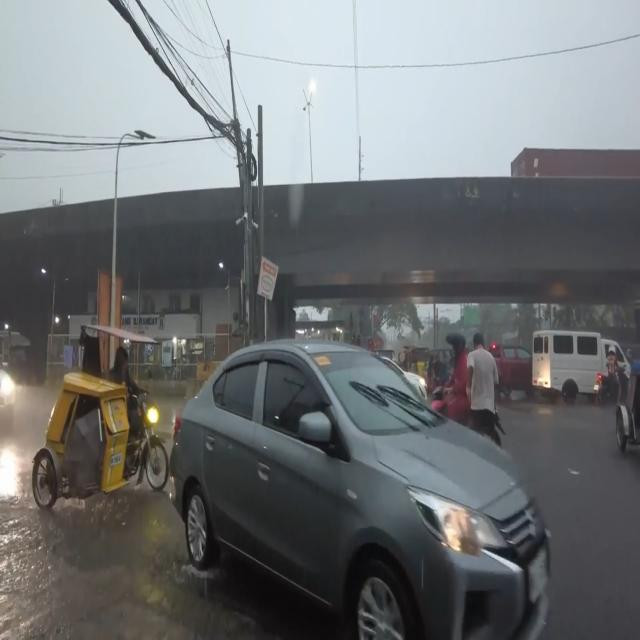half: (446, 332, 466, 362)
